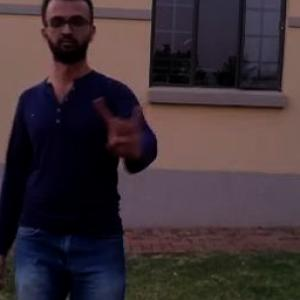takeoff-hand: (92, 84, 154, 166)
